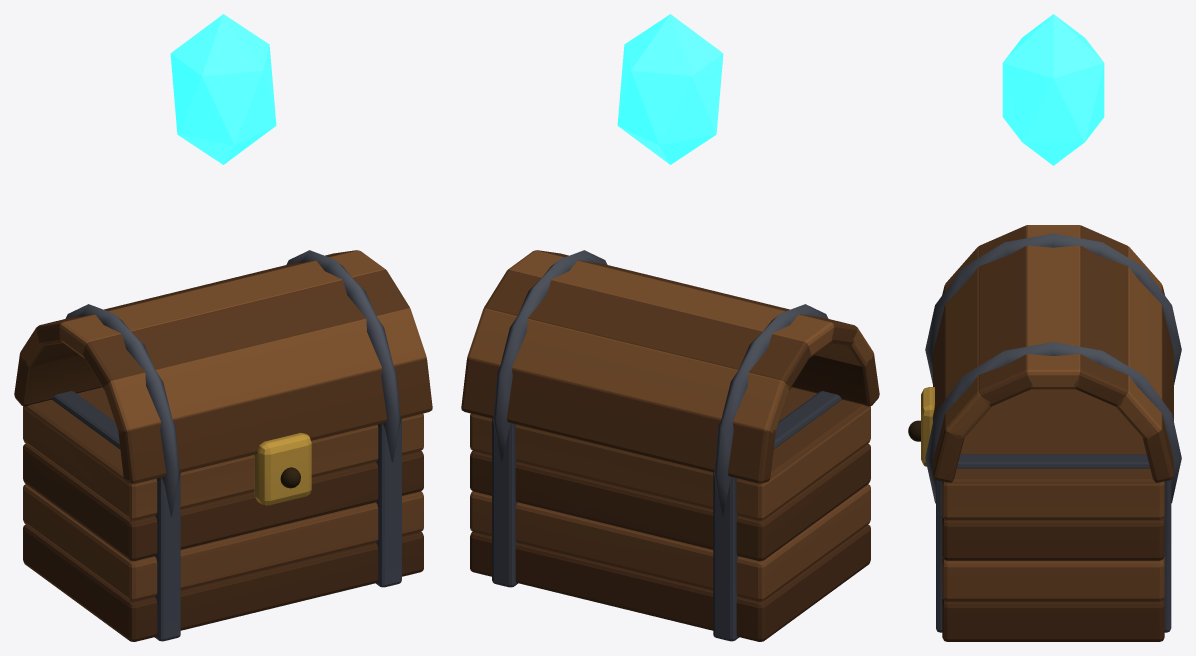
The model's file is chest.glb.
3 renders of one model, left to right at view 1: azimuth 30°, elevation 25°; view 2: azimuth 150°, elevation 25°; view 3: azimuth 270°, elevation 25°, orthographic.
Parts seen in each view (by area): view 1: chest, marker; view 2: chest, marker; view 3: chest, marker.
Boxes of the visible parts, bbox=[...] form: chest: bbox=[14, 250, 432, 641]; marker: bbox=[170, 14, 276, 164]; chest: bbox=[461, 250, 879, 641]; marker: bbox=[617, 14, 723, 164]; chest: bbox=[908, 225, 1181, 641]; marker: bbox=[1002, 14, 1104, 165].
Bounding box in the file's own units: 0.82 × 1.45 × 0.64.
